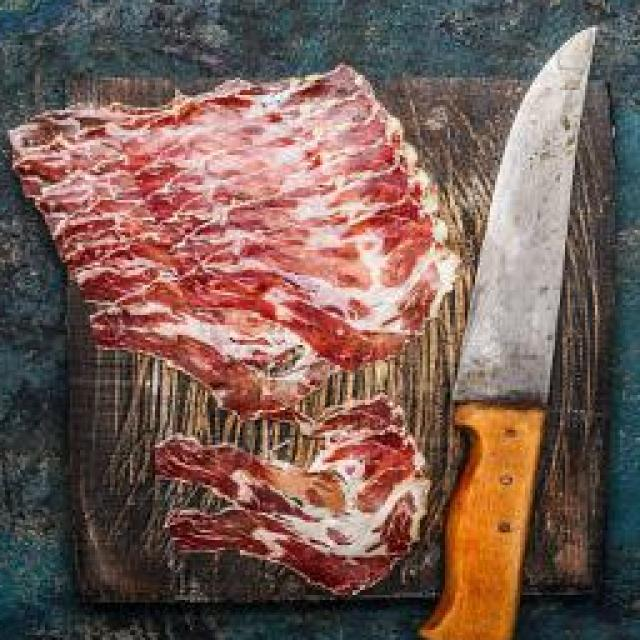knife: (420, 22, 605, 640)
